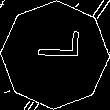L_W: (29, 39, 81, 71)
